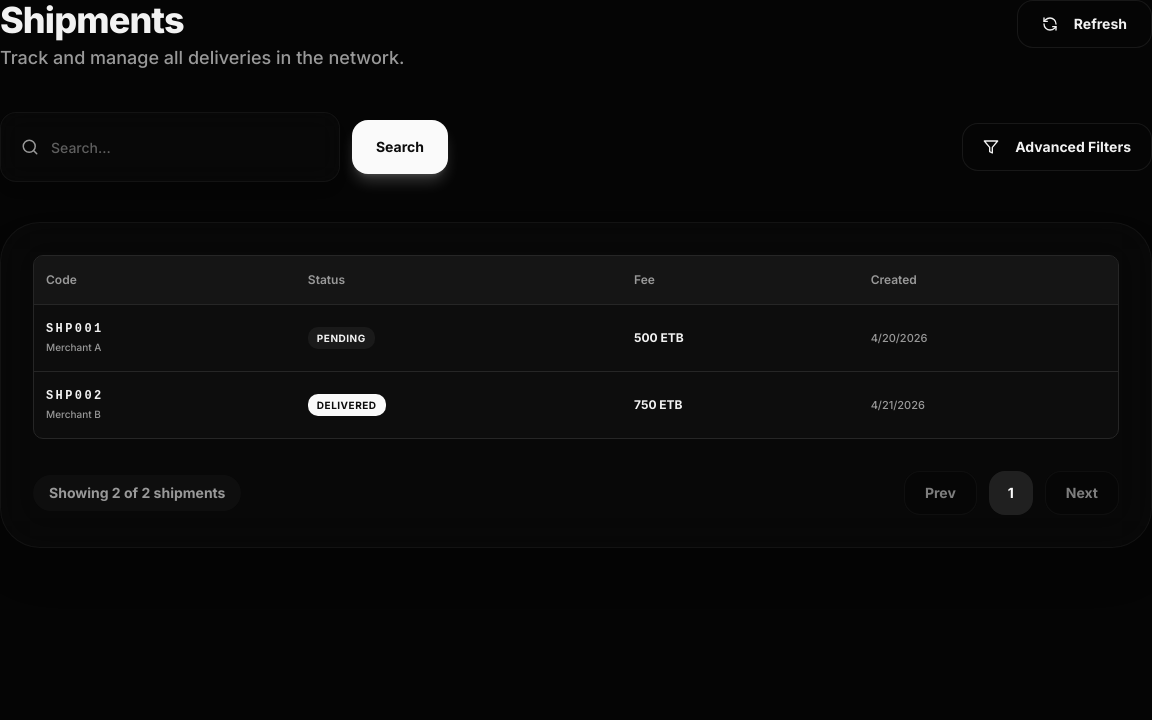
Test: AdminShipmentsPage › renders timeline event descriptions after successful fetch
Click the text "SHP001" at (75, 329), box [46, 322, 104, 336]
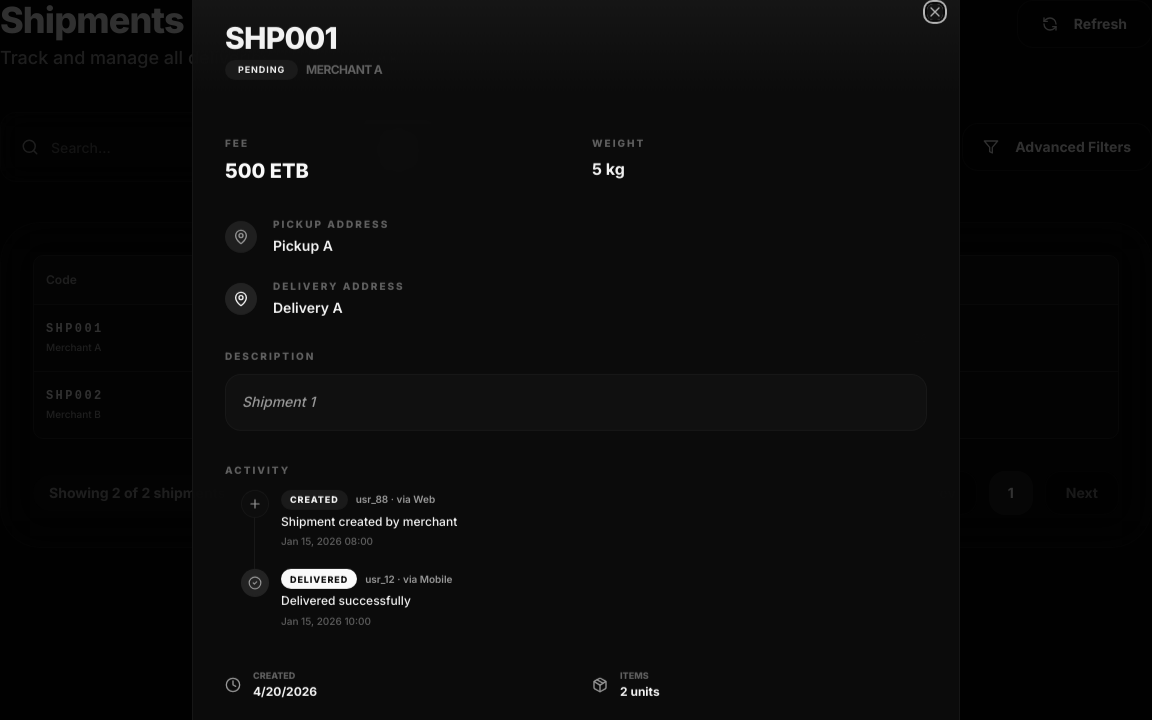
Expected: the text "Shipment created by merchant" is shown, [281, 514, 457, 529]
Expected: the text "Delivered successfully" is shown, [281, 593, 411, 608]
